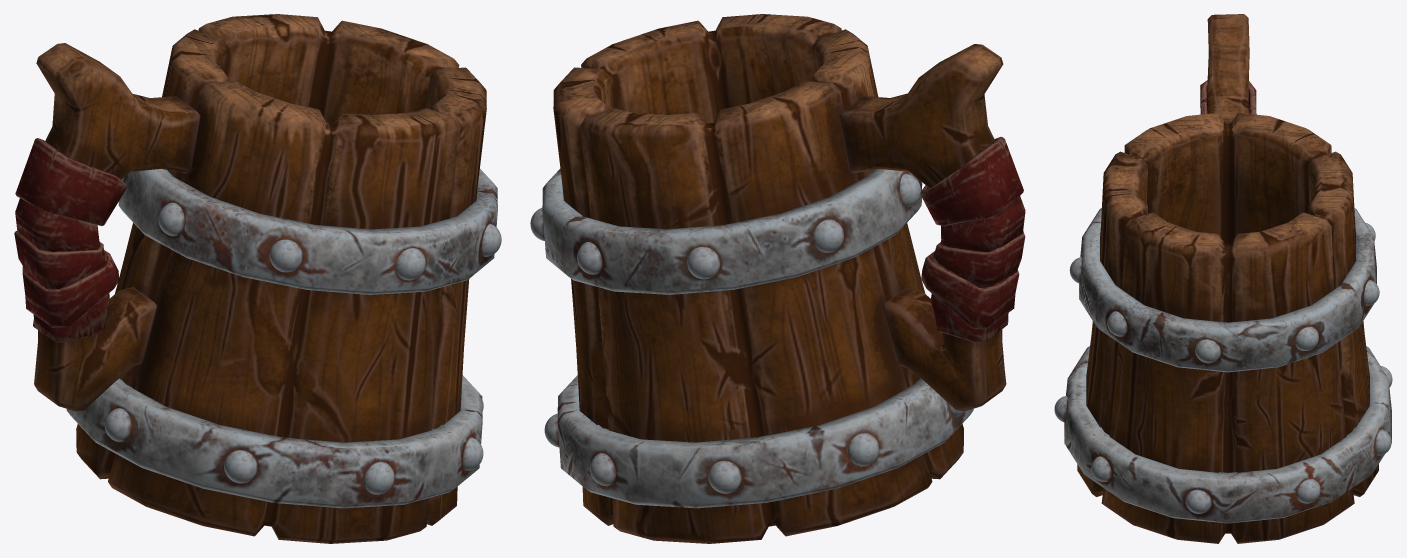
Rendered from mug.glb.
3 views of the same model, side by side, from view 1: azimuth 30°, elevation 25°; view 2: azimuth 150°, elevation 25°; view 3: azimuth 270°, elevation 25° (orthographic). The views are drawn at different scales.
Parts seen in each view (by area): view 1: Object_2; view 2: Object_2; view 3: Object_2.
Boxes of the visible parts, x1=… form: Object_2: x1=14, y1=14, x2=501, y2=543; Object_2: x1=530, y1=14, x2=1025, y2=543; Object_2: x1=1054, y1=14, x2=1392, y2=543.
Bounding box in the file's own units: 30.27 × 31.78 × 24.8.
1 material, 1 textured.
